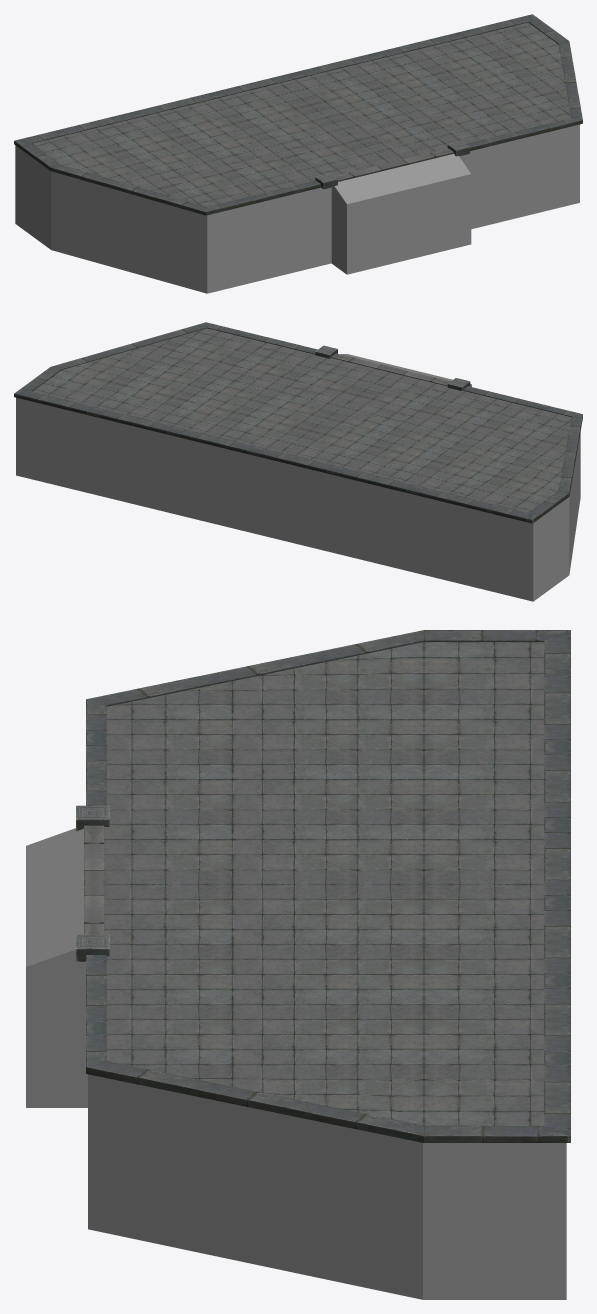
3 views of the same model, one above another, from view 1: azimuth 30°, elevation 25°; view 2: azimuth 150°, elevation 25°; view 3: azimuth 270°, elevation 25° (orthographic). The views are drawn at different scales.
Visible parts, largest first — view 1: Scene_Object_Di_1, Scene_Object_Di_1_Xzm; view 2: Scene_Object_Di_1, Scene_Object_Di_1_Xzm; view 3: Scene_Object_Di_1, Scene_Object_Di_1_Xzm.
Boxes of the visible parts, x1,y1,x2,y2 form: Scene_Object_Di_1: (14, 14, 582, 215); Scene_Object_Di_1_Xzm: (15, 124, 579, 293); Scene_Object_Di_1: (14, 322, 582, 523); Scene_Object_Di_1_Xzm: (16, 354, 580, 601); Scene_Object_Di_1: (76, 630, 570, 1142); Scene_Object_Di_1_Xzm: (26, 828, 566, 1299).
Bounding box in the file's own units: 4608 × 724 × 2097.
